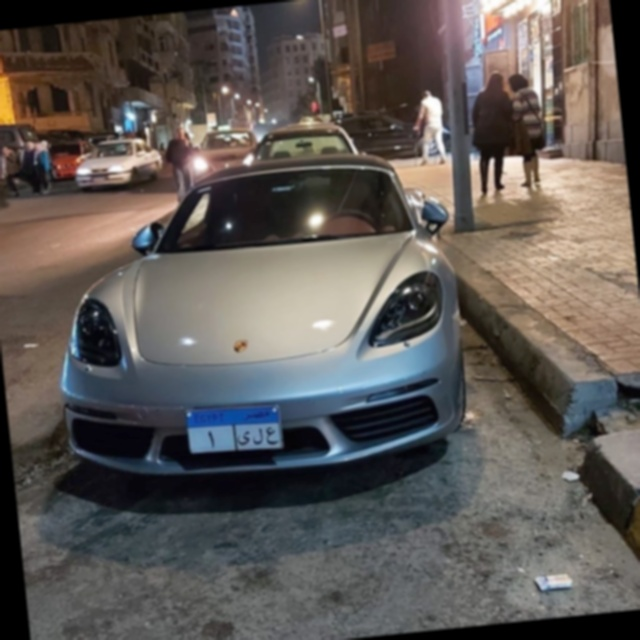License Plate: (183, 401, 286, 460)
